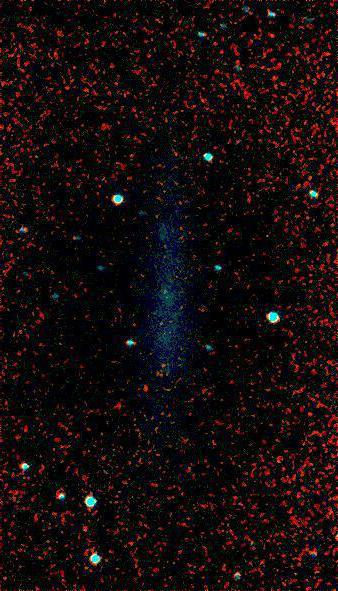star: (130, 372, 160, 402)
